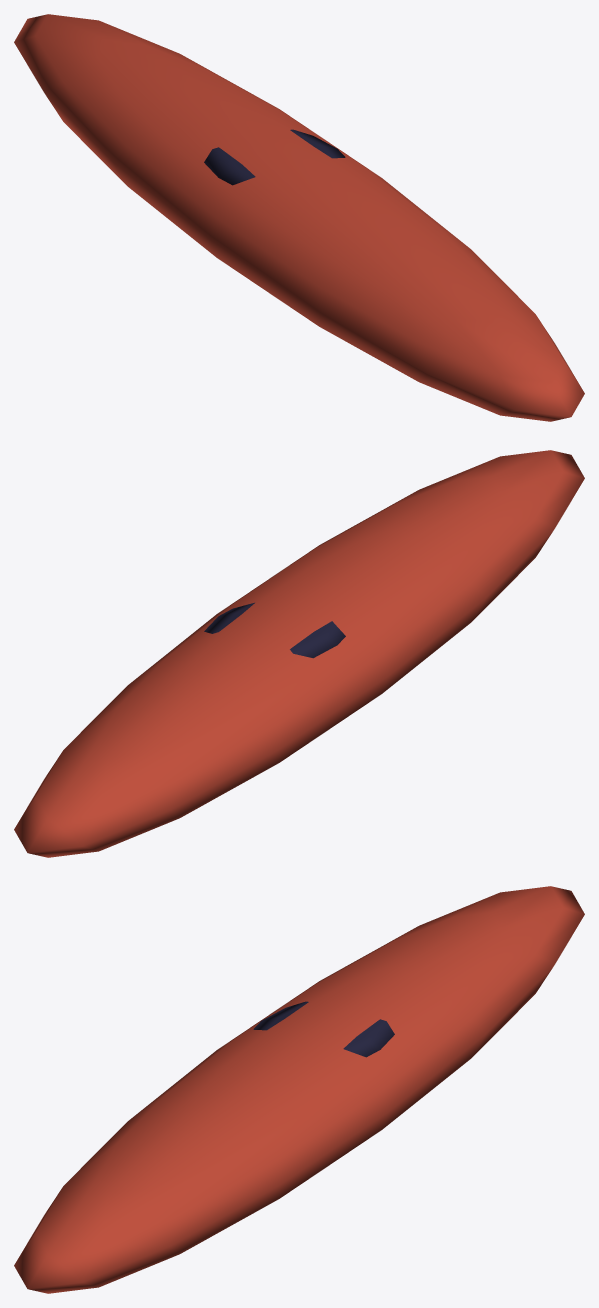
The model's file is kayak.glb.
The picture shows the model from 3 angles, top to bottom: view 1: azimuth 30°, elevation 25°; view 2: azimuth 150°, elevation 25°; view 3: azimuth 330°, elevation 25°; orthographic projection.
Parts seen in each view (by area): view 1: kayak; view 2: kayak; view 3: kayak.
Boxes of the visible parts, <box> form: kayak: <box>14,14,584,421</box>; kayak: <box>14,450,584,857</box>; kayak: <box>14,886,584,1293</box>.
Bounding box in the file's own units: 0.7199 × 0.3999 × 3.8.
